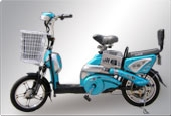电动车: (7, 9, 170, 115)
